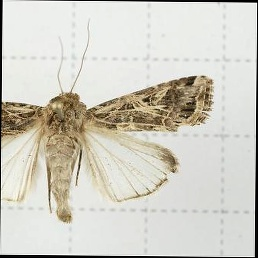Spodoptera litura: (2, 18, 214, 224)
